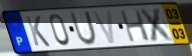0: (49, 13, 71, 48)
H: (118, 8, 152, 43)
K: (24, 15, 52, 48)
U: (69, 10, 98, 47)
V: (91, 9, 117, 46)
X: (138, 7, 177, 43)
